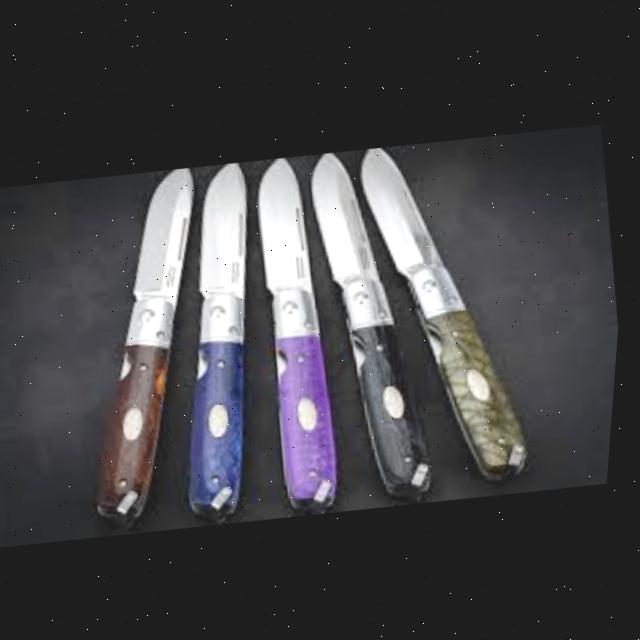Knife: (338, 124, 558, 494), (48, 161, 249, 535), (289, 137, 462, 506), (142, 156, 300, 525), (234, 149, 369, 515)
